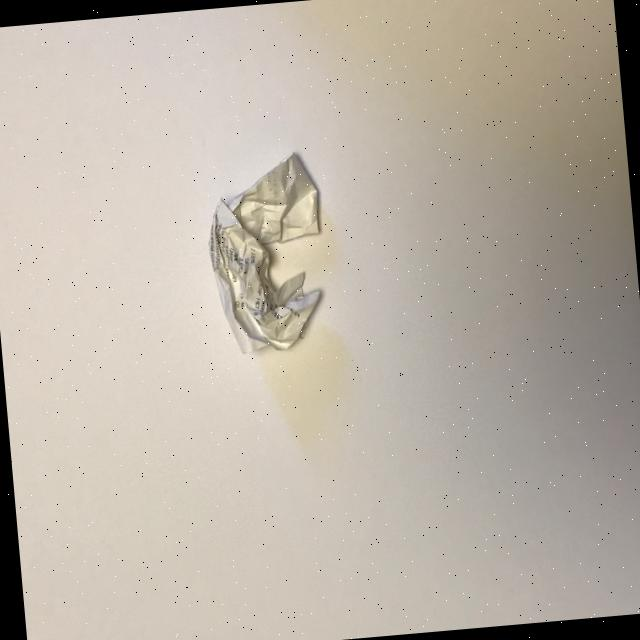paper: (200, 149, 332, 357)
